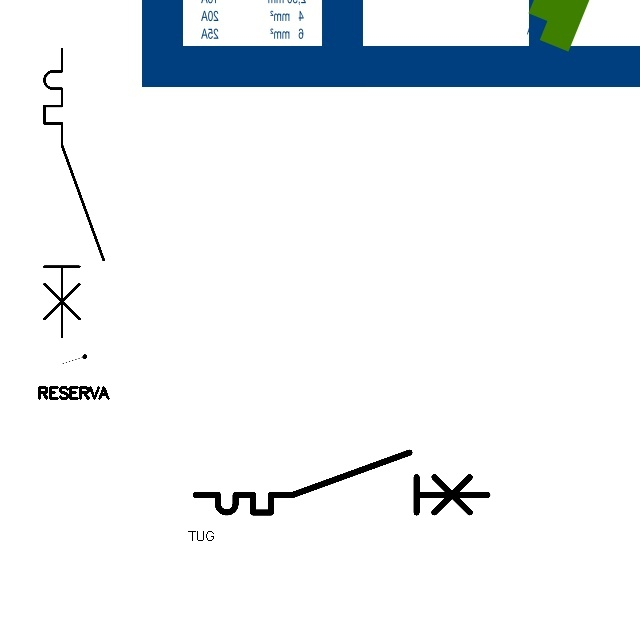interruptor_termomagnetico: (188, 445, 495, 520), (37, 42, 111, 344)
